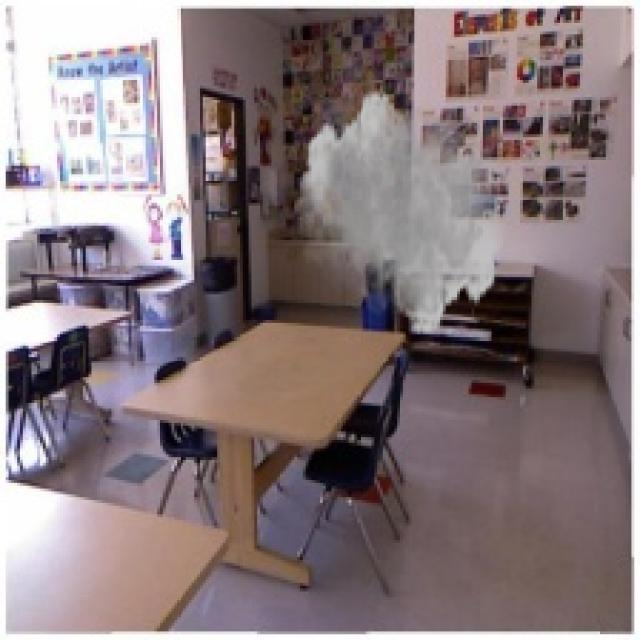Smoke: (294, 89, 509, 338)
